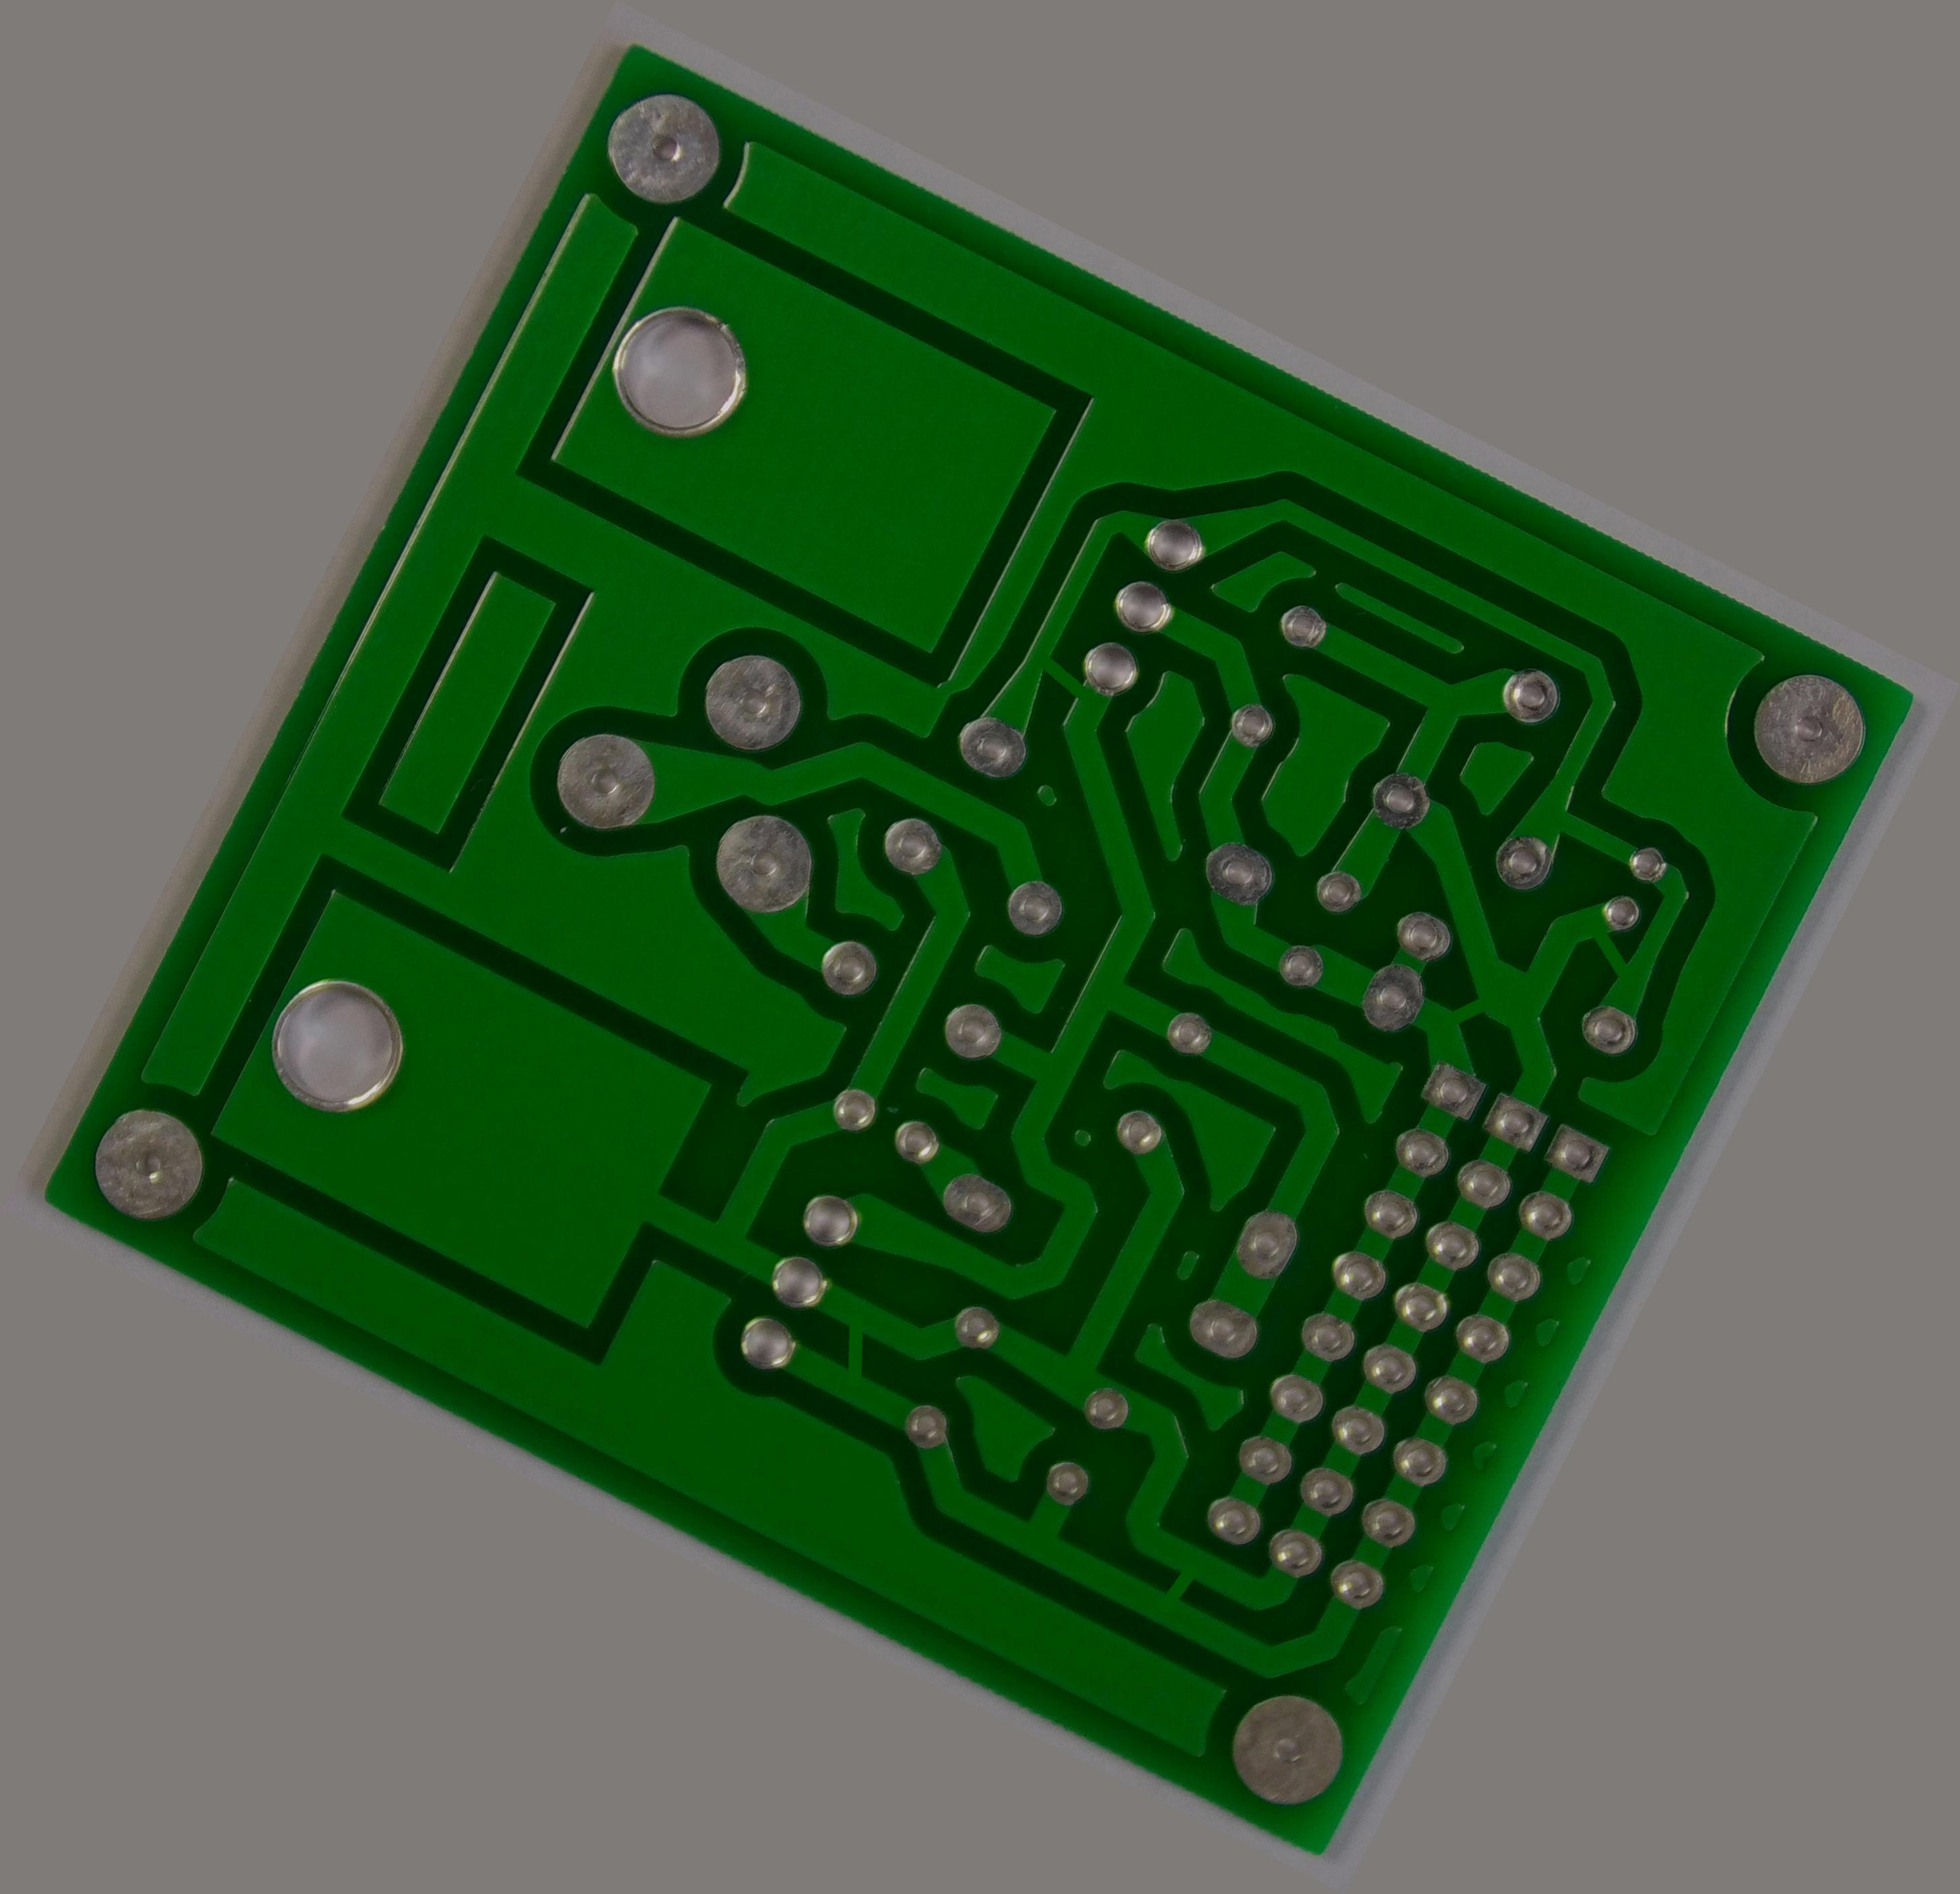short: (791, 1288, 908, 1416), (1120, 1521, 1236, 1645), (1405, 949, 1524, 1066), (1549, 891, 1666, 1001), (1006, 627, 1118, 726)
